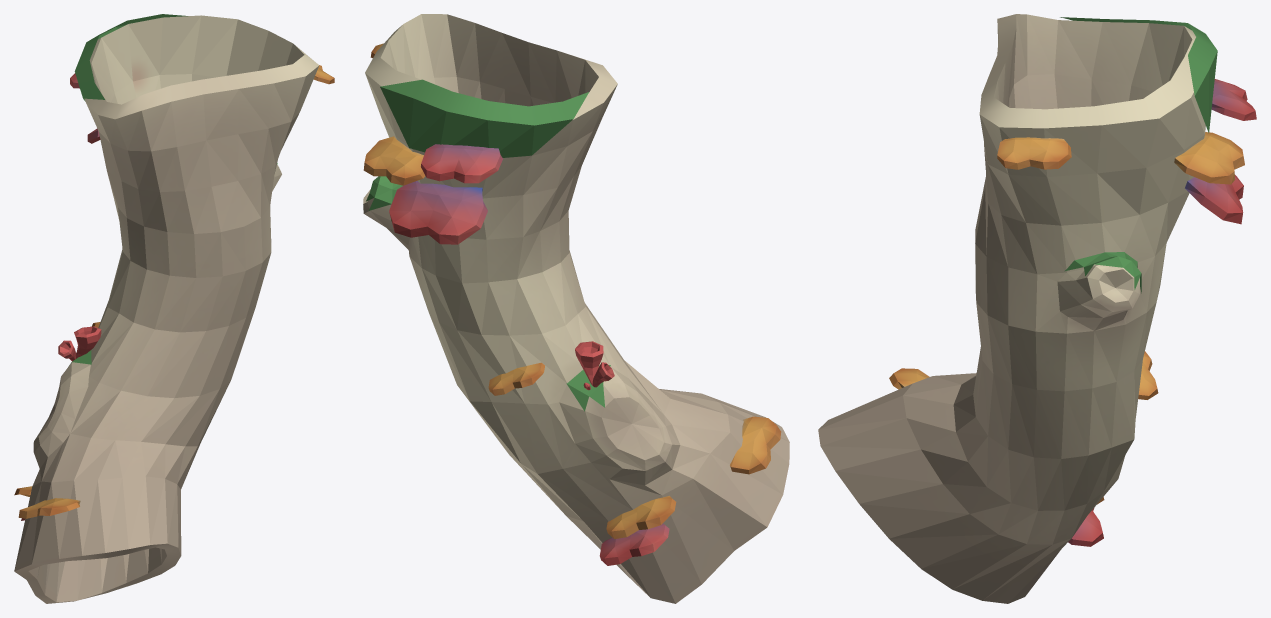
Rendered from Coral_01.FBX.
3 views of the same model, side by side, from view 1: azimuth 30°, elevation 25°; view 2: azimuth 150°, elevation 25°; view 3: azimuth 270°, elevation 25° (orthographic). The views are drawn at different scales.
Visible parts, largest first — view 1: Coral_01; view 2: Coral_01; view 3: Coral_01.
Part boxes in pixels (x1,y1,x2,y2): Coral_01: (14, 14, 334, 603); Coral_01: (363, 14, 789, 603); Coral_01: (818, 14, 1256, 603).
Size of the model in its own units: 17.84 by 25.15 by 15.73.
